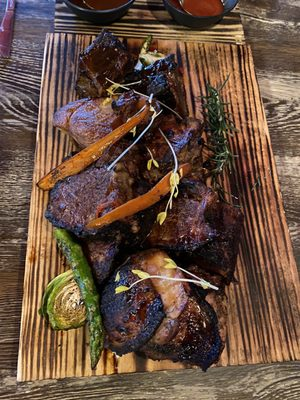sushi: (162, 0, 239, 30), (61, 0, 135, 25)
